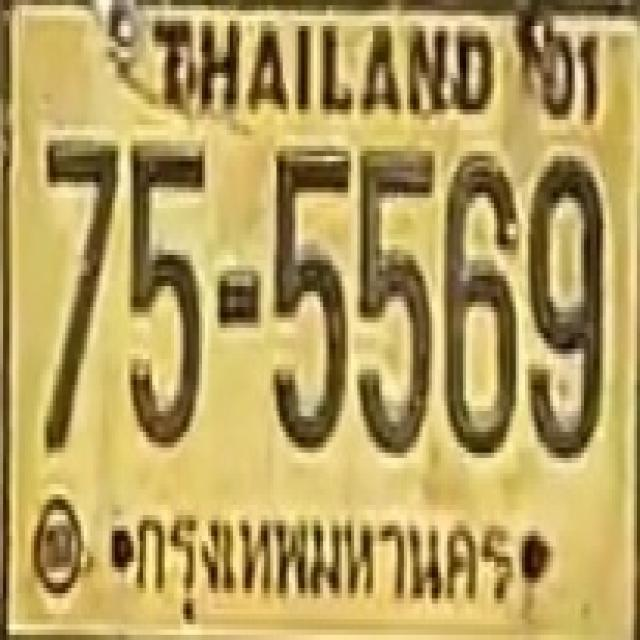5: (354, 146, 432, 452), (127, 140, 205, 442), (270, 146, 348, 448)
6: (441, 151, 516, 453)
7: (42, 138, 116, 450)
9: (527, 151, 601, 453)
BKK: (126, 485, 520, 640)
